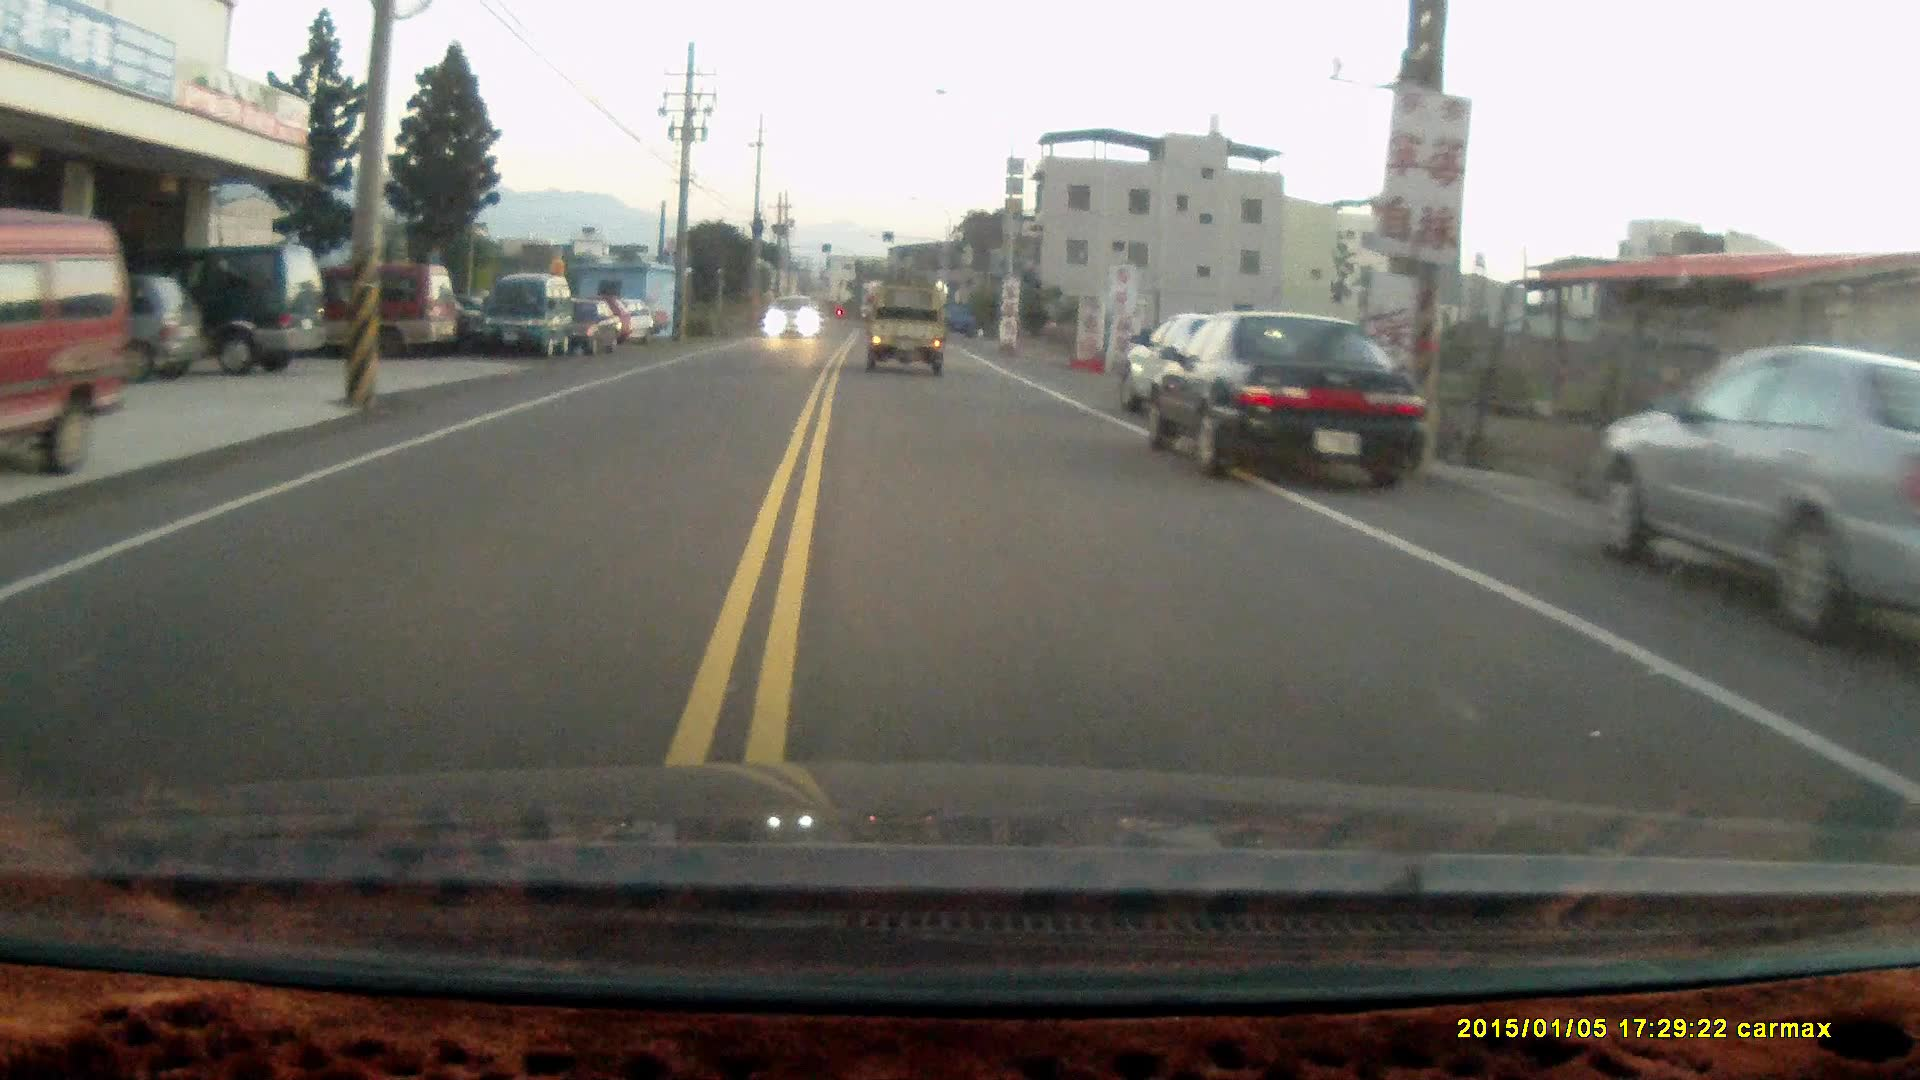vehicle: (1596, 342, 1920, 651), (1141, 313, 1427, 497), (1, 220, 131, 483), (86, 241, 331, 371), (1124, 318, 1303, 433), (258, 268, 459, 363), (471, 282, 574, 369), (862, 291, 949, 382), (551, 302, 622, 360), (762, 297, 822, 343)
